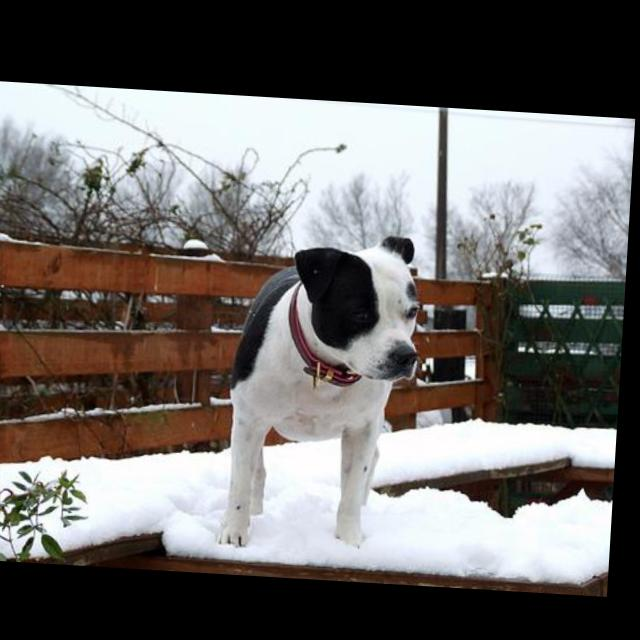staffford: (225, 222, 432, 552)
